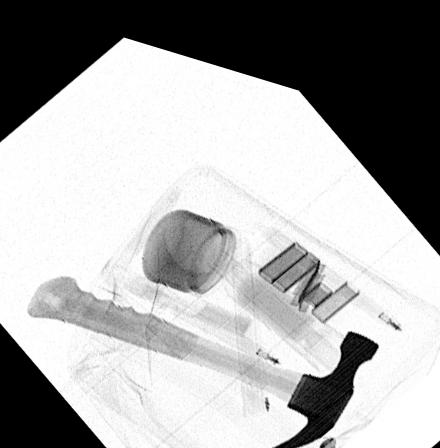Hammer: (22, 270, 380, 444)
